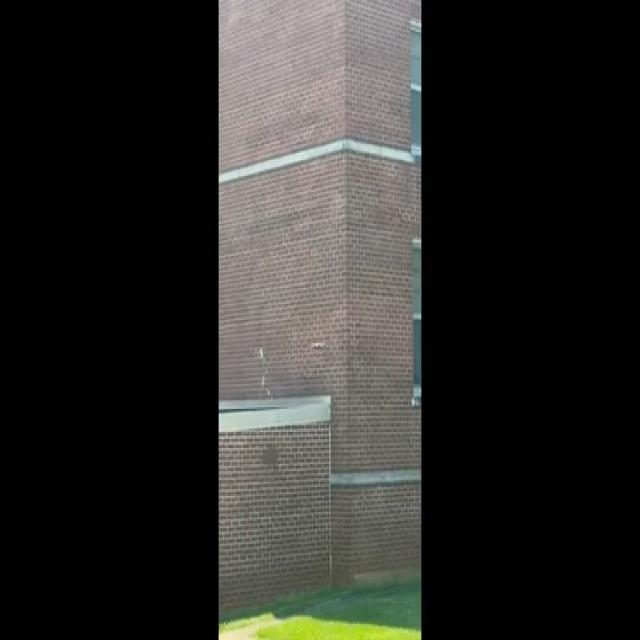drone: (308, 328, 333, 362)
